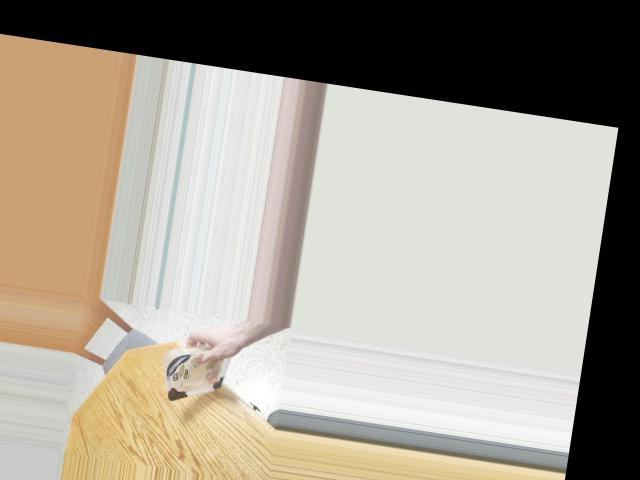cheese: (162, 344, 238, 404)
